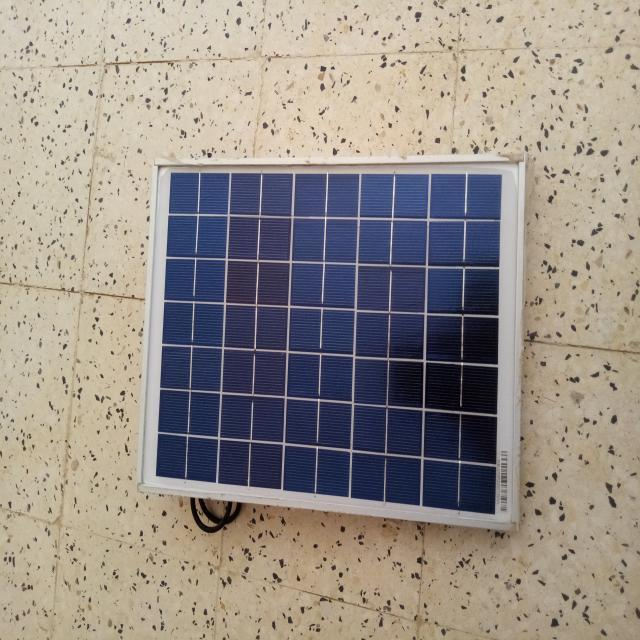Normal Solar Panel: (134, 158, 526, 529)
